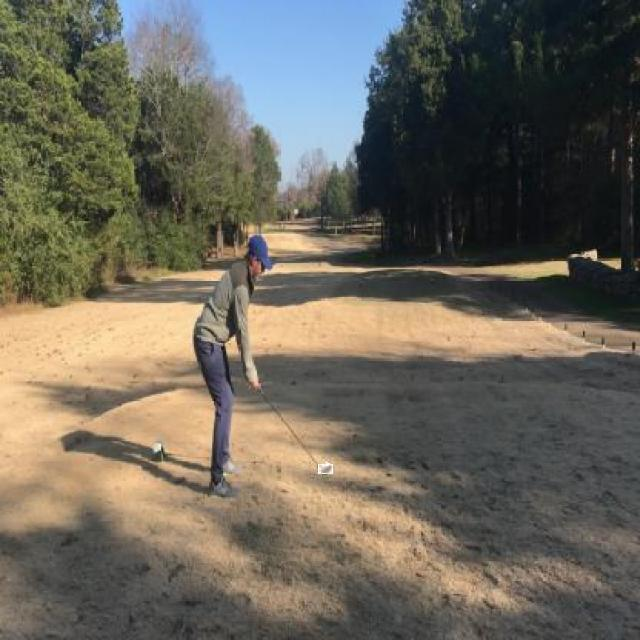club head: (318, 464, 333, 474)
